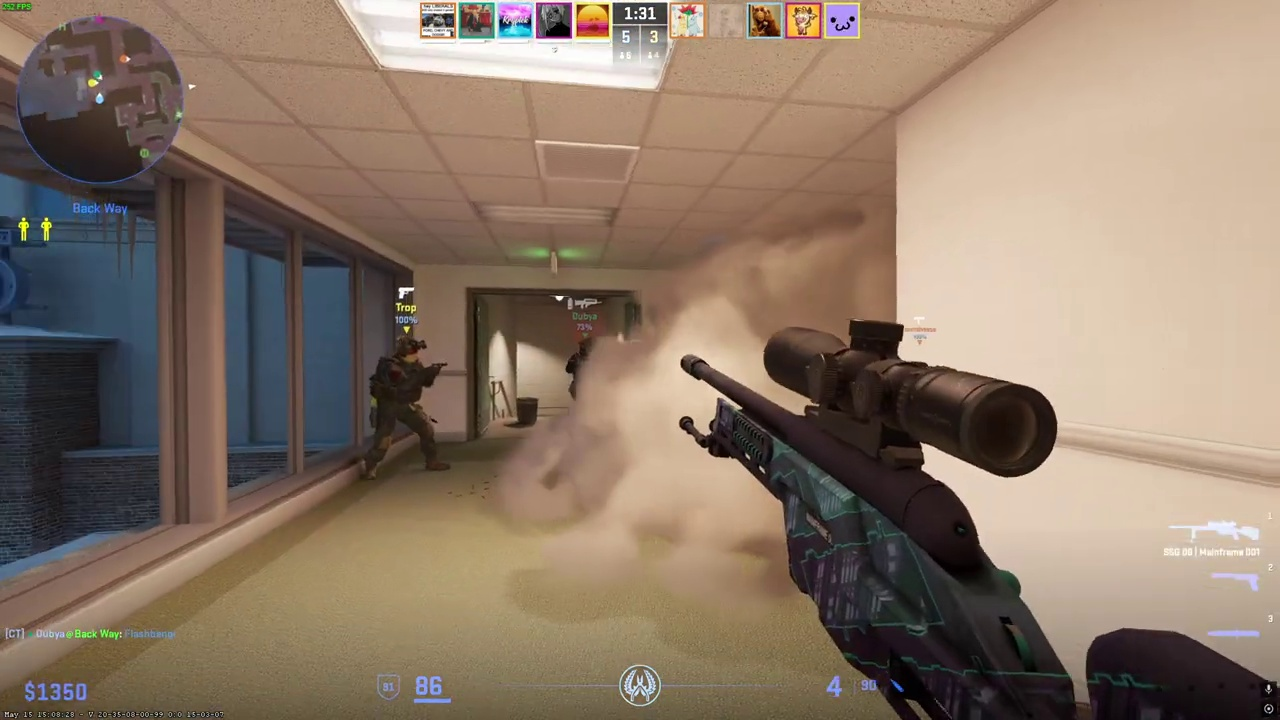CT: (358, 336, 447, 482), (564, 339, 588, 401)
